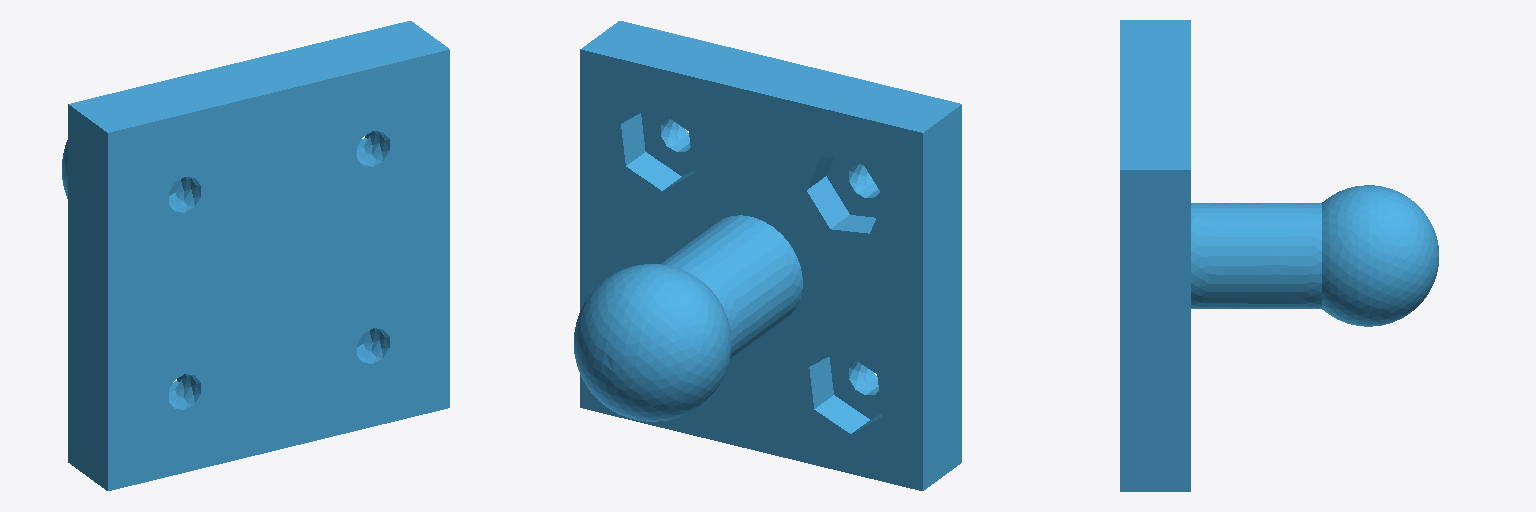
URDF robot description (sphere_2):
<?xml version="1.0"?>

<robot name="sphere_2">
	<link name="world">
        </link>

        <joint name="world_to_indenter" type="prismatic">
                <parent link="world"/>
                <child link="indenter"/>
                <origin rpy="0.0 0.0 0.0" xyz="0.0 0.0 0.0"/>
                <axis xyz="0 1 0"/>
                <dynamics damping="0.0" friction="0.0"/>
                <limit lower="0.0" upper="0.1" velocity="1e9" effort="1e9"/>
        </joint>

	<link name="indenter">
		<visual>
			<origin rpy="0.0 0.0 0.0" xyz="0.0 0.0 0.0"/>
			<geometry>
				<mesh filename="../meshes/sphere_2_0.2.stl" scale="0.001 0.001 0.001"/>
			</geometry>
		</visual>
		<collision>
			<origin rpy="0.0 0.0 0.0" xyz="0.0 0.0 0.0"/>
			<geometry>
				<mesh filename="../meshes/sphere_2_0.2.stl" scale="0.001 0.001 0.001"/>
			</geometry>
		</collision>
		<!-- <inertial>
			<origin rpy="0.0 0.0 0.0" xyz="0.0 -14.0636e-3 0.0"/>
			<mass value="0.00075752"/>
			<inertia ixx="2.03201e-8" iyy="1.24370e-8" izz="1.90589e-8" ixy="0.0" ixz="-1.96737e-15" iyz="0.0"/>
		</inertial> -->
	</link>
</robot>

--- What the picture shows (computed from the rendered views, not written in the file) ---
Views: 3 orthographic renders of the robot side by side, from view 1: azimuth 30°, elevation 25°; view 2: azimuth 150°, elevation 25°; view 3: azimuth 270°, elevation 25°.
Model sphere_2 with 2 links and 1 joints (1 prismatic), rooted at world, posed all joints at 0.
Links seen in each view (by area): view 1: indenter; view 2: indenter; view 3: indenter.
Link boxes in pixels (left/top/right/bottom): indenter: left=62, top=21, right=449, bottom=490; indenter: left=574, top=21, right=961, bottom=490; indenter: left=1120, top=20, right=1438, bottom=491.
Size in the robot's own frame: 0.02 by 0.018 by 0.02 metres.
1 mesh visuals loaded from 1 distinct referenced files (1 ASCII STL).
